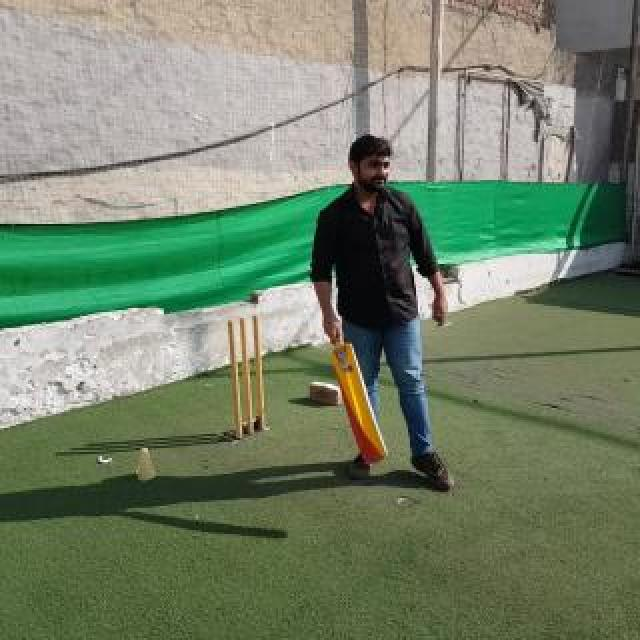bat: (333, 335, 387, 465)
